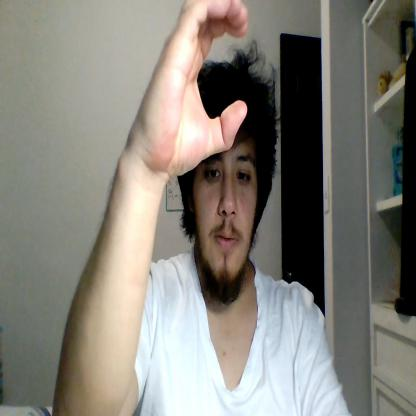C: (136, 0, 249, 176)
